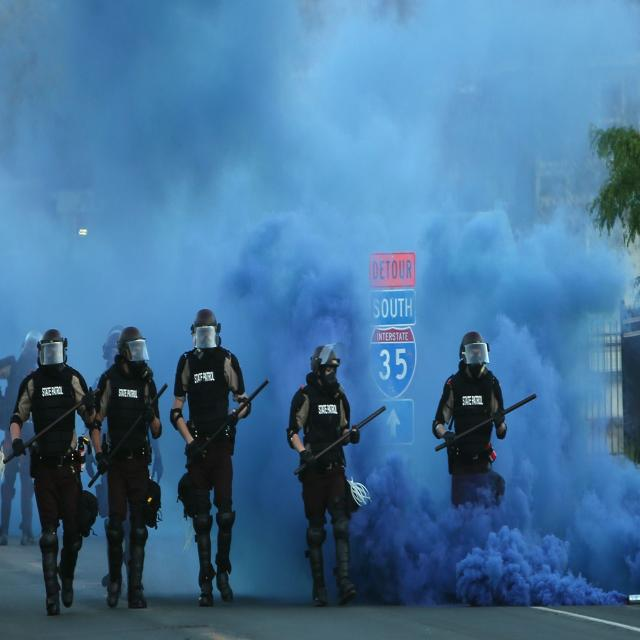police: (157, 307, 256, 612), (417, 327, 529, 586), (9, 326, 94, 601), (286, 316, 364, 614), (87, 314, 163, 612)
